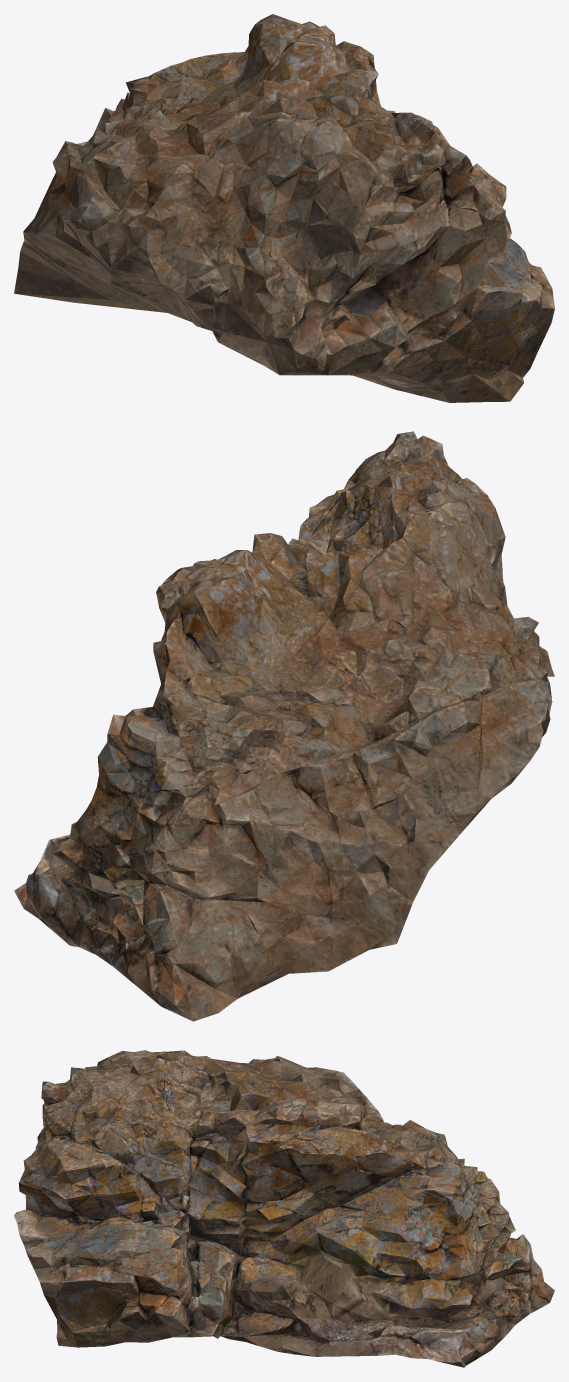
Rendered from Boulder.fbx.
3 views of the same model, one above another, from view 1: azimuth 30°, elevation 25°; view 2: azimuth 150°, elevation 25°; view 3: azimuth 270°, elevation 25° (orthographic). The views are drawn at different scales.
Visible parts, largest first — view 1: Boulder; view 2: Boulder; view 3: Boulder.
Boxes of the visible parts, bbox=[...] form: Boulder: bbox=[14, 14, 554, 402]; Boulder: bbox=[14, 431, 554, 1021]; Boulder: bbox=[14, 1050, 554, 1367].
Bounding box in the file's own units: 1.28 × 0.9959 × 1.83.
1 material, 1 textured.
